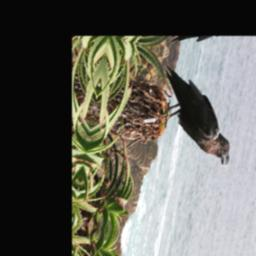Crow: (148, 62, 245, 172)
